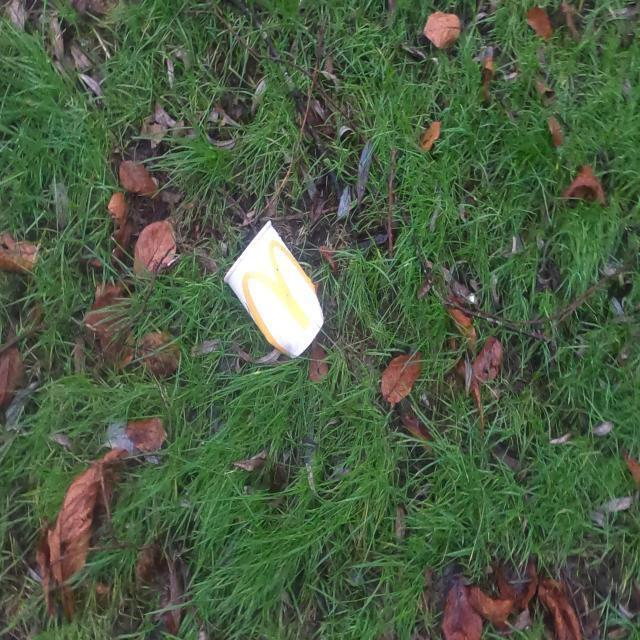Cup: (221, 218, 325, 362)
